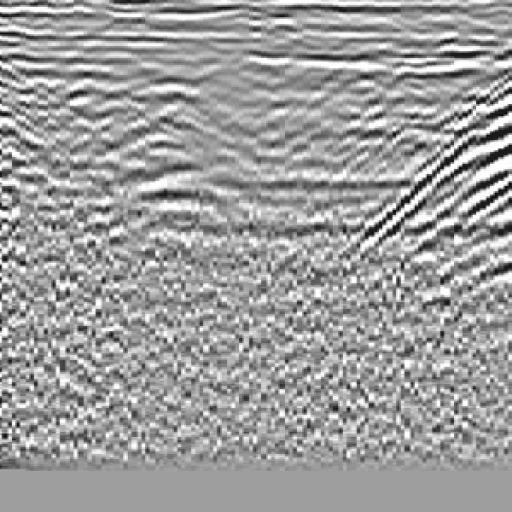metalic: (91, 46, 239, 295)
nonmetalic: (352, 41, 512, 272)
